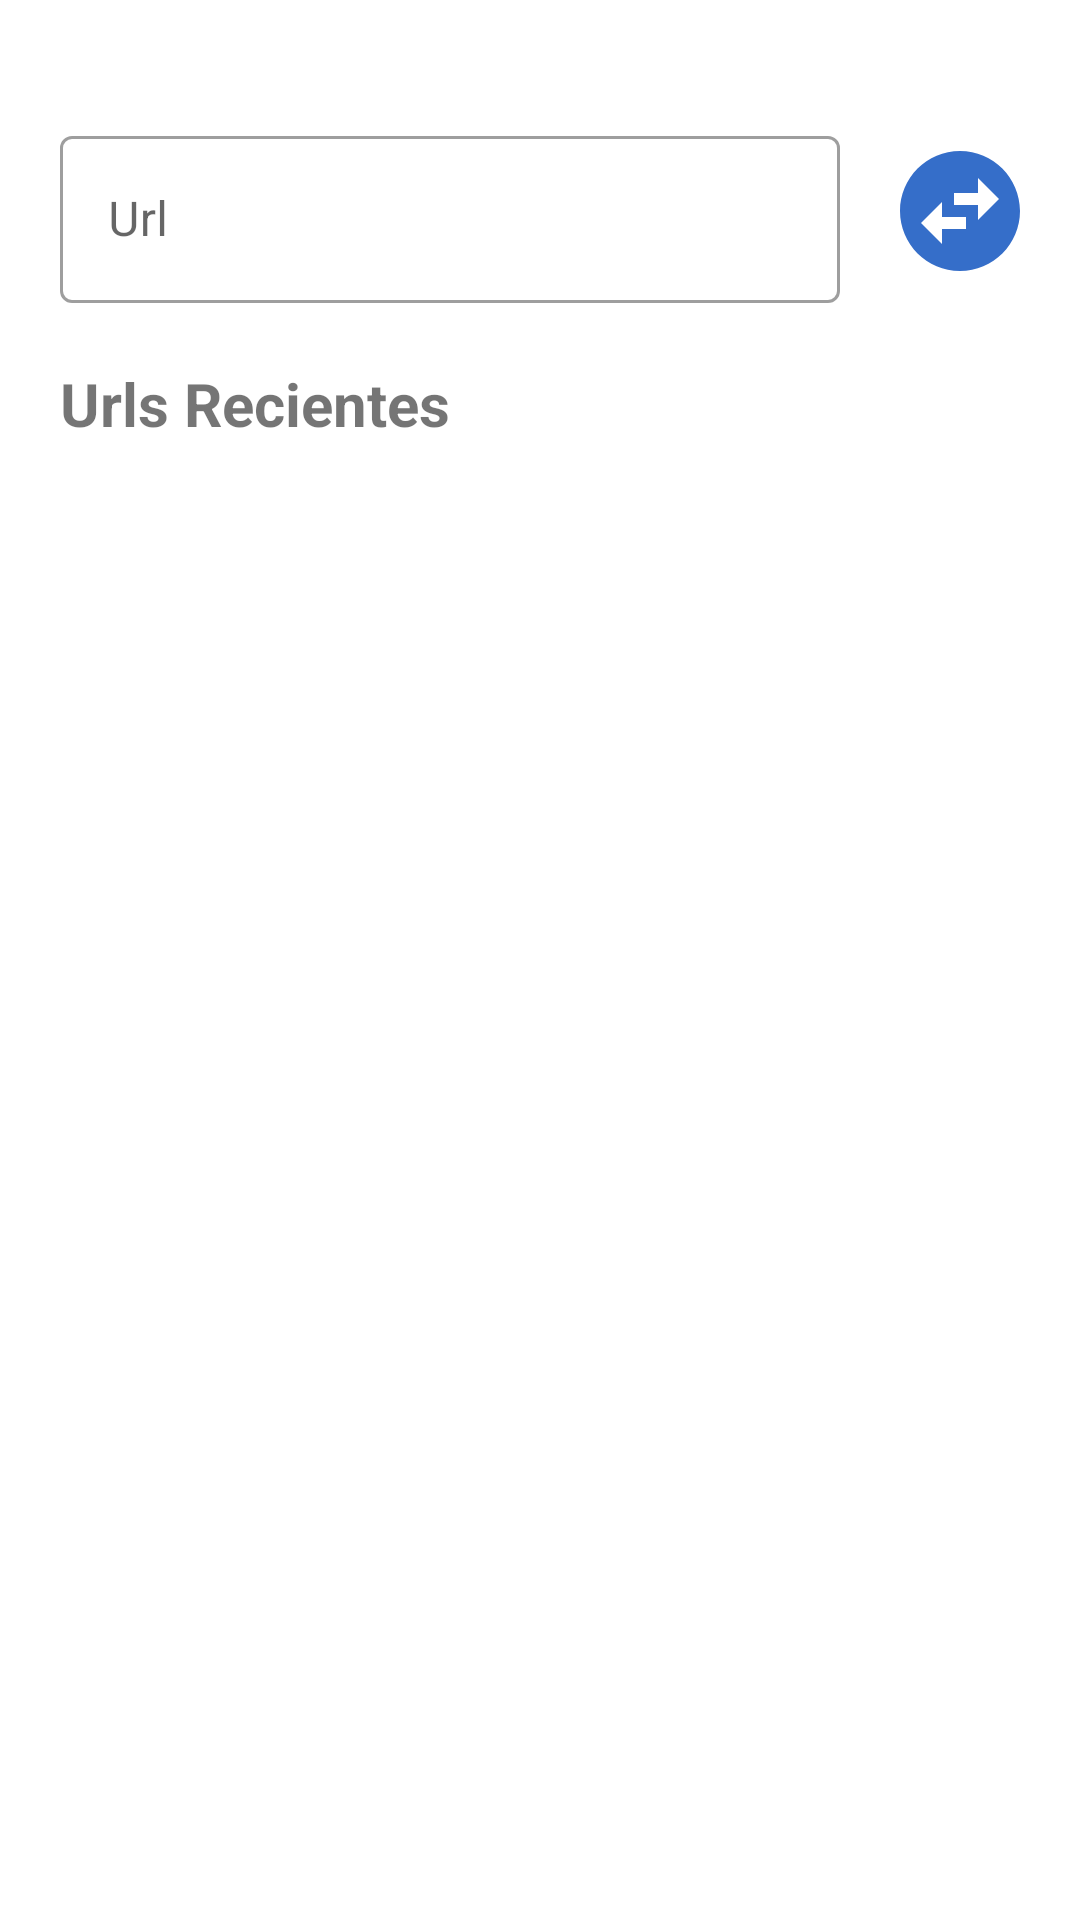

Where icons sit on this 1080 × 1920 app screen, as (x1, y1, x2, y2):
swap: (900, 151, 1020, 271)
